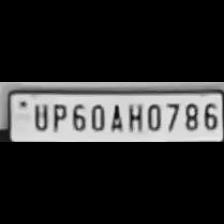0: (86, 100, 106, 132), (143, 100, 163, 132)
6: (200, 100, 220, 132), (68, 100, 86, 132)
7: (162, 100, 180, 132)
8: (180, 100, 200, 132)
A: (106, 100, 124, 132)
H: (124, 100, 142, 132)
P: (48, 100, 68, 132)
U: (28, 100, 50, 132)
